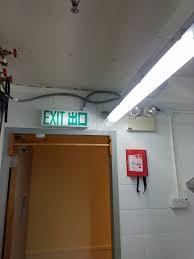exit: (1, 129, 115, 258)
lit_exit_sign: (40, 110, 89, 127)
